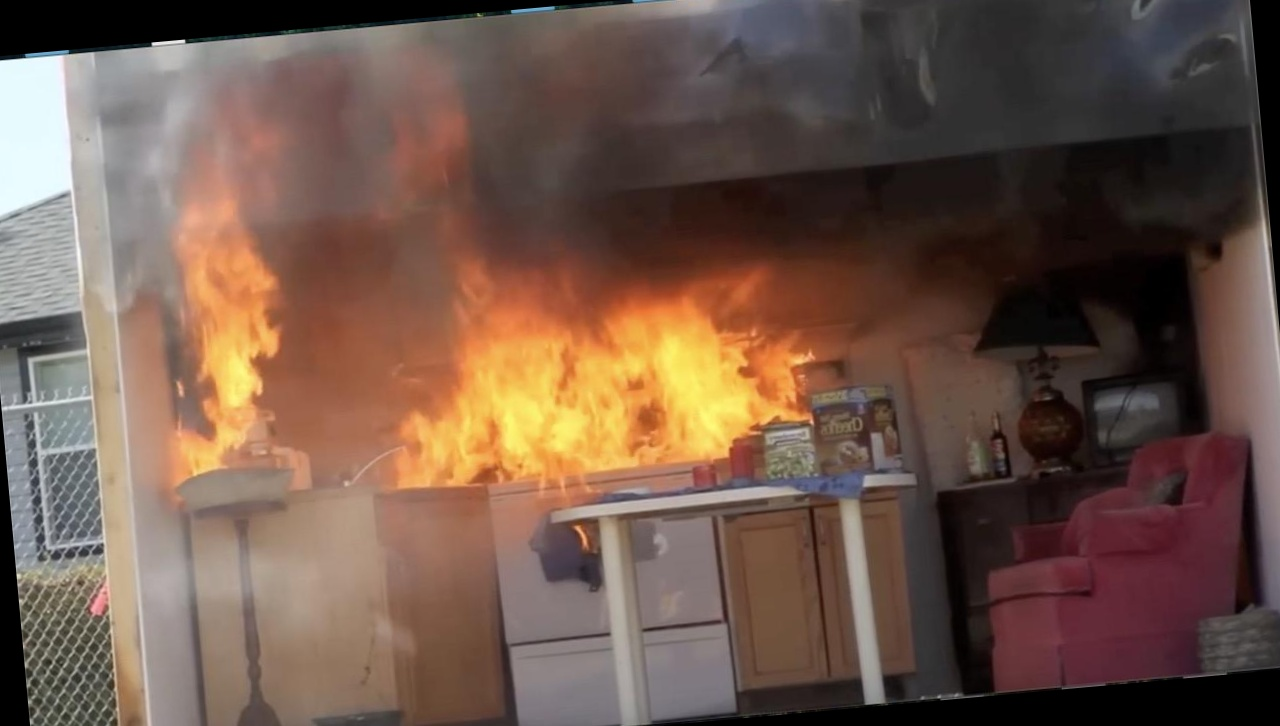fire: (140, 216, 867, 558)
